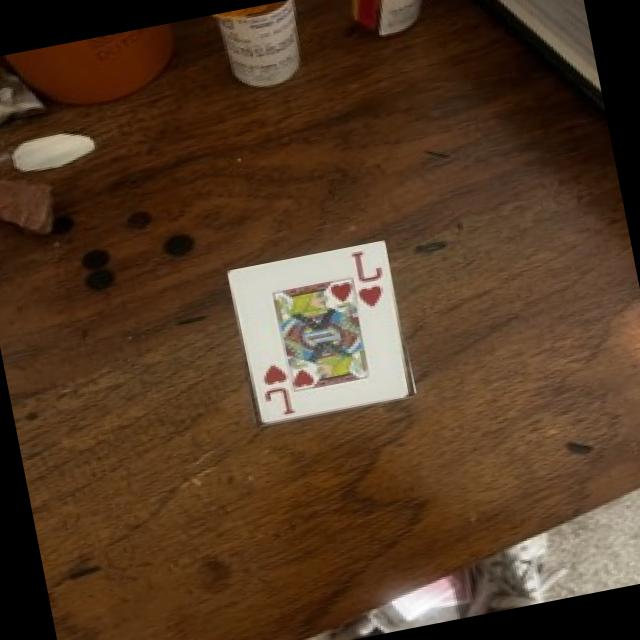Jack of hearts: (227, 241, 409, 422)
